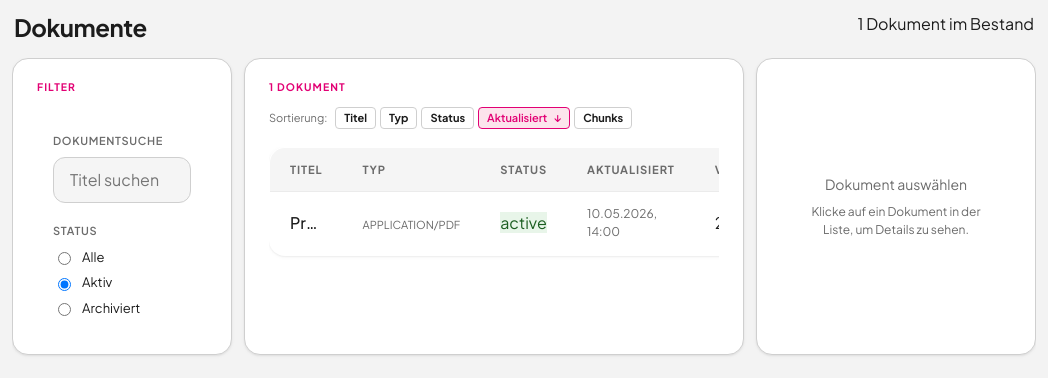
Test: DocumentCenterPage › shows empty state when no documents match the filter
This screenshot has width=1048, height=378.
Expected: the text "Prozesshandbuch Eingang" is shown, x1=290 y1=212 x2=322 y2=236
Step 1. Type "xxxxxxxx" into the search field with placeholder "Titel suchen …" → (122,180), box x1=53 y1=157 x2=191 y2=203
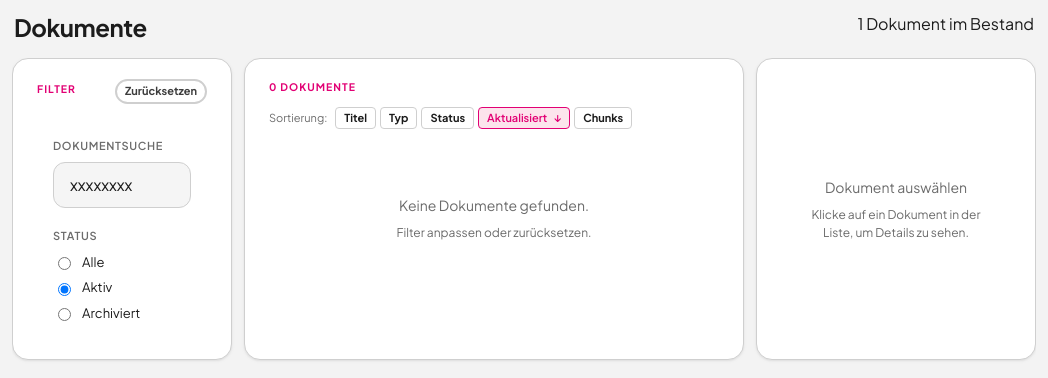
Expected: the text "Keine Dokumente gefunden." is shown, x1=399 y1=195 x2=589 y2=216
